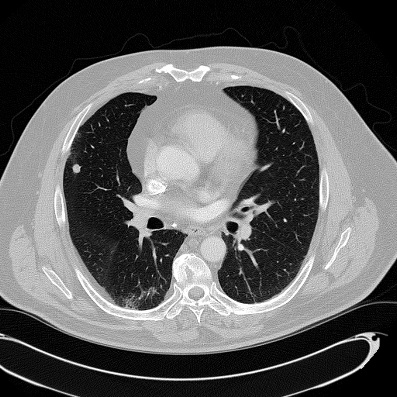PN: (72, 164, 80, 172)
